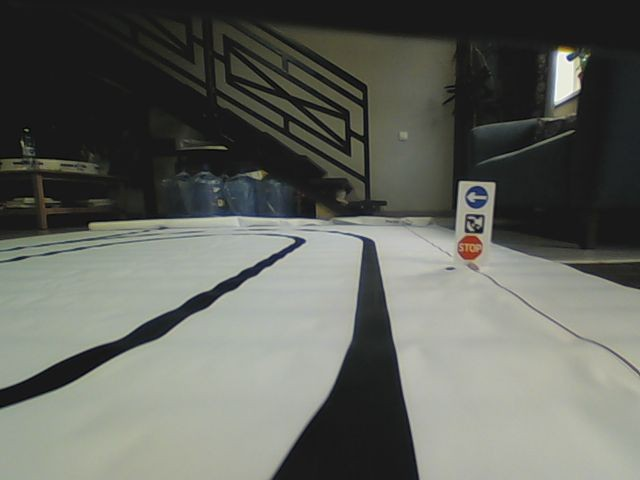Stop: (456, 234, 484, 262)
